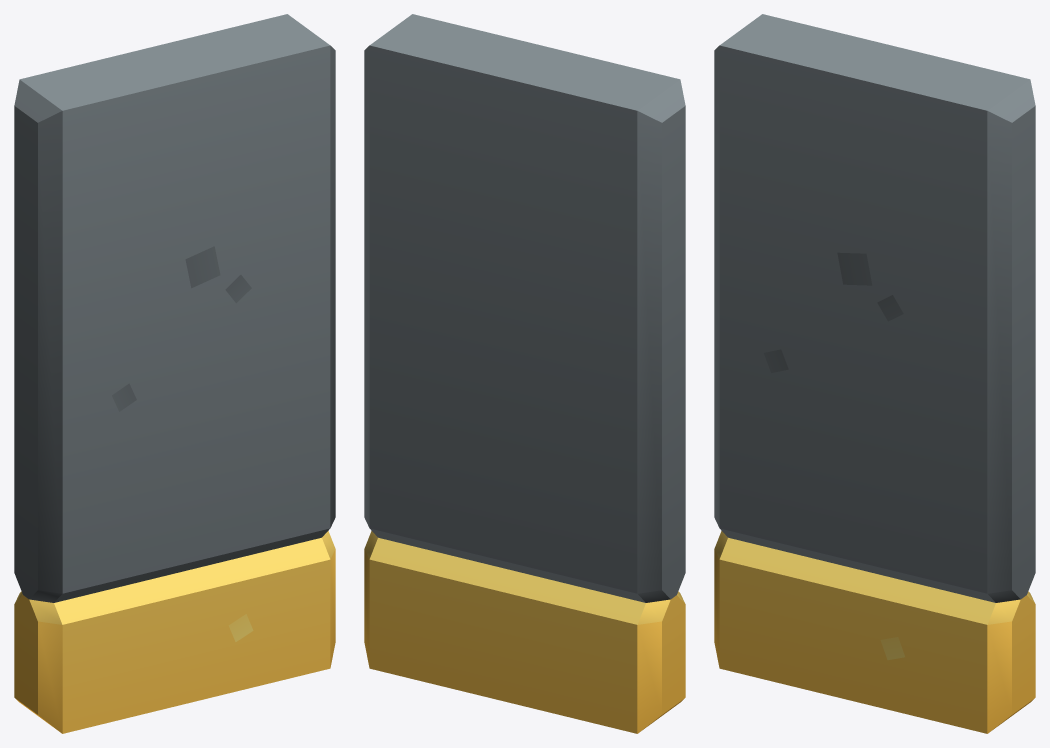
File: wall_half.glb
3 views of the same model, side by side, from view 1: azimuth 30°, elevation 25°; view 2: azimuth 150°, elevation 25°; view 3: azimuth 330°, elevation 25° (orthographic).
Visible parts, largest first — view 1: Wall_Half; view 2: Wall_Half; view 3: Wall_Half.
Boxes of the visible parts, x1,y1,x2,y2 form: Wall_Half: (14, 14, 335, 733); Wall_Half: (364, 14, 685, 733); Wall_Half: (714, 14, 1035, 733).
Size of the model in its own units: 2 by 4 by 0.53.
Materials: 1 (1 with a texture image).
